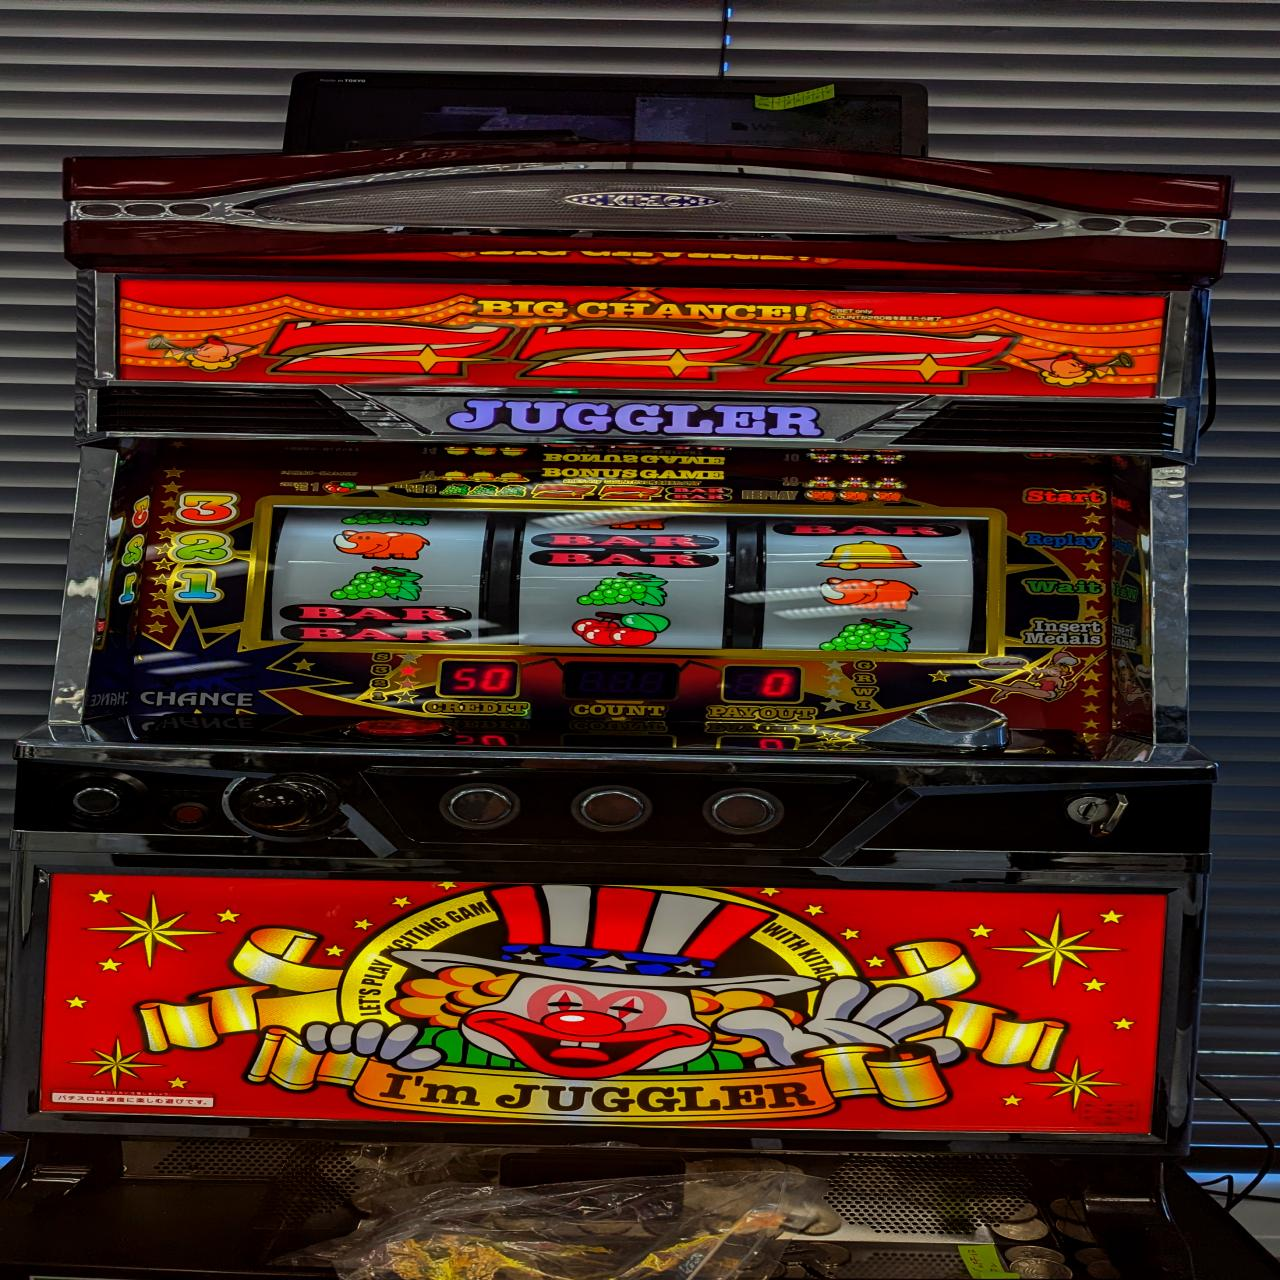Display: (265, 499, 994, 654)
bar: (275, 601, 476, 646), (526, 529, 726, 570)
bell: (810, 538, 924, 571)
cherry: (570, 611, 673, 649)
grape: (576, 570, 674, 611), (815, 617, 917, 654), (328, 565, 428, 601)
rhino: (818, 574, 921, 613), (328, 527, 436, 561)
